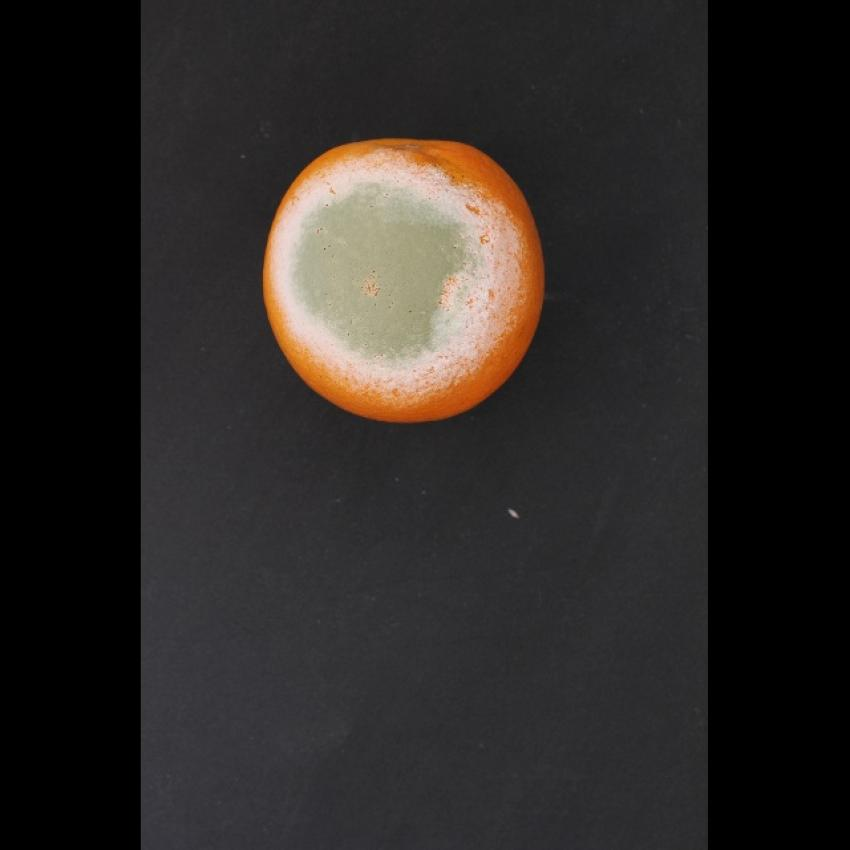Mal estado: (260, 129, 554, 435)
